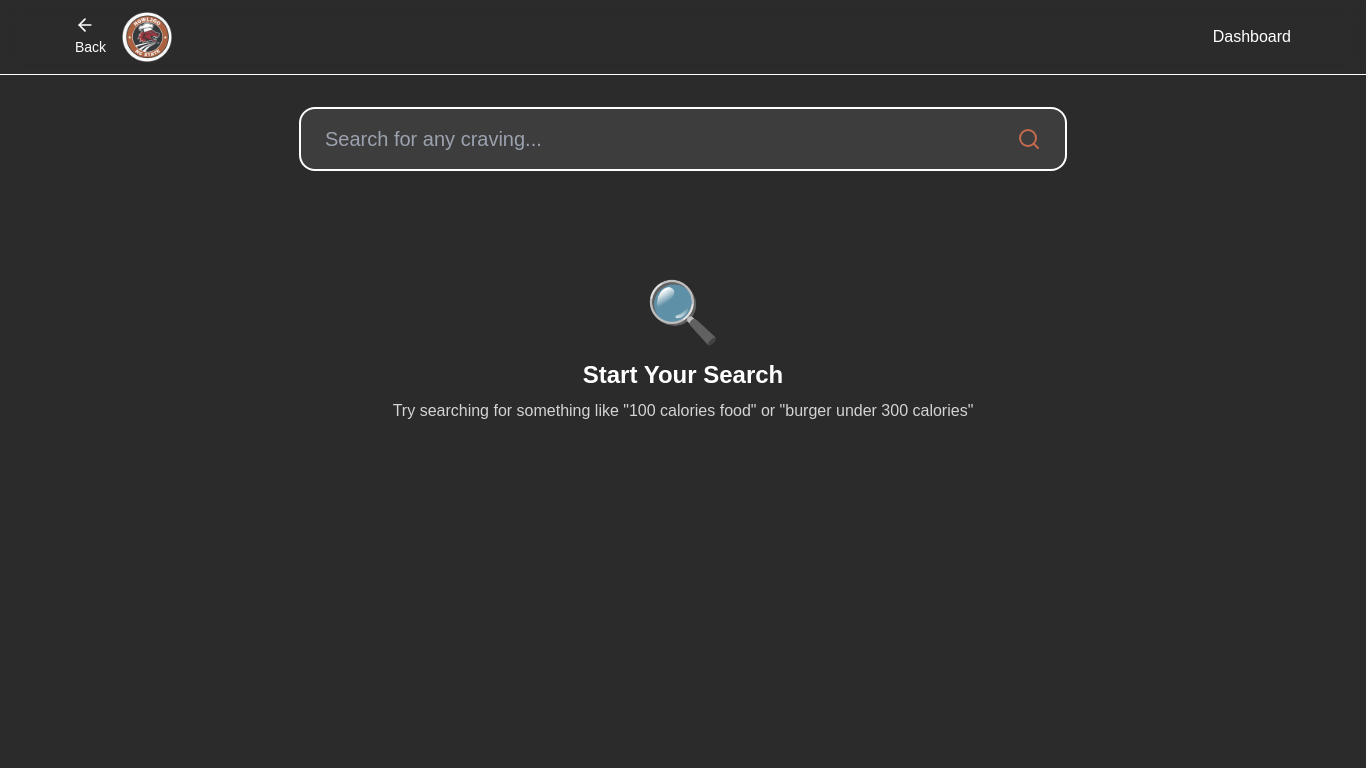
Test case: Search Page › API Integration › shows loading state while fetching
In the field named "Search for food": (667, 139) x1=325 y1=125 x2=1009 y2=153, type "pizza"
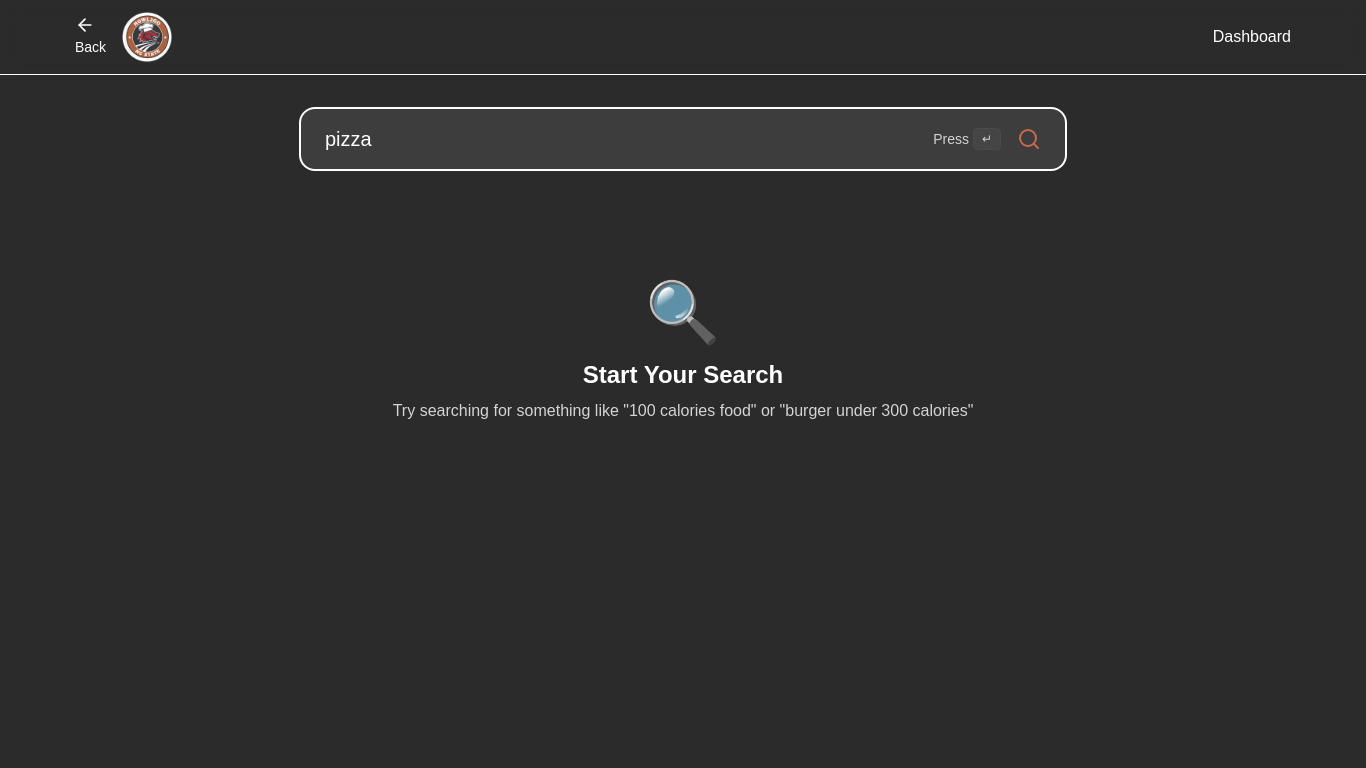
Submit the form named "Search for food", box x1=299 y1=107 x2=1067 y2=171
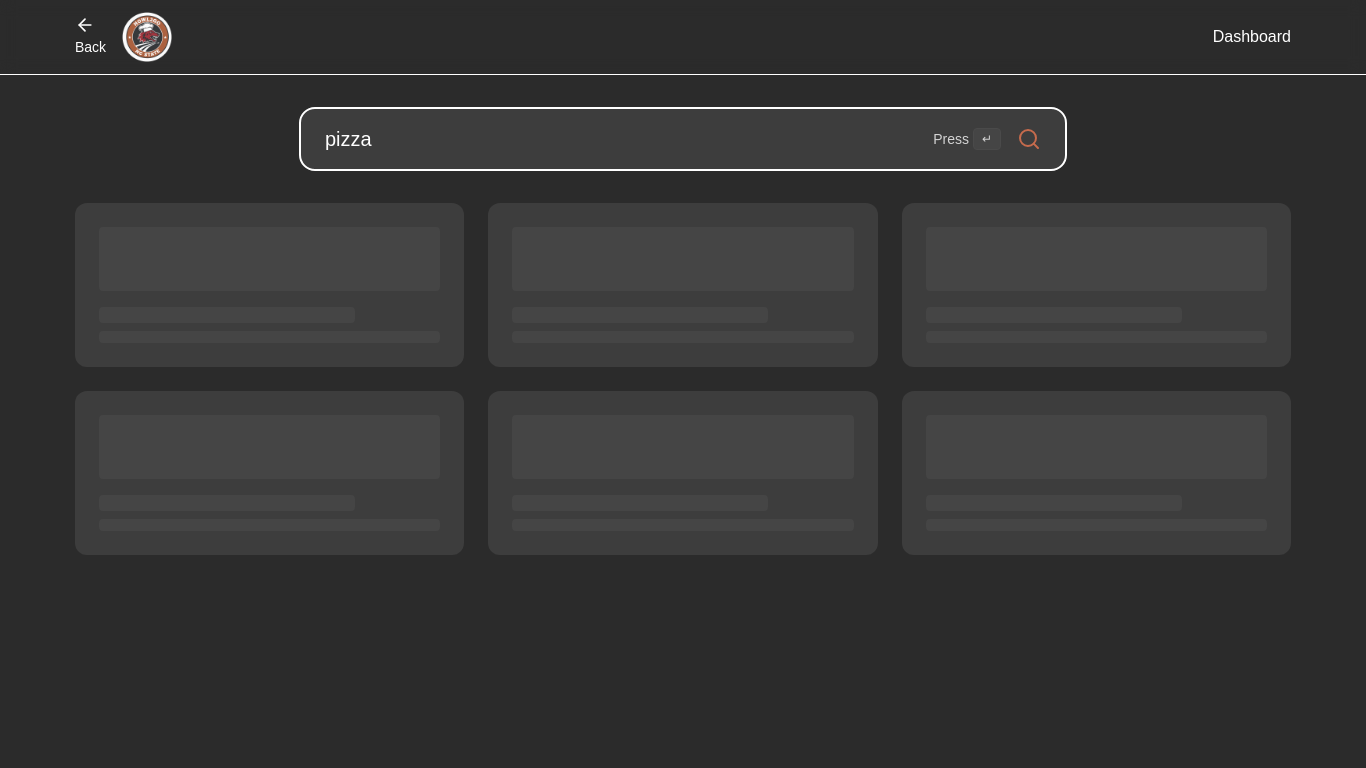
Check: the 1st element with class "animate-pulse" is shown, box x1=75 y1=203 x2=464 y2=367
